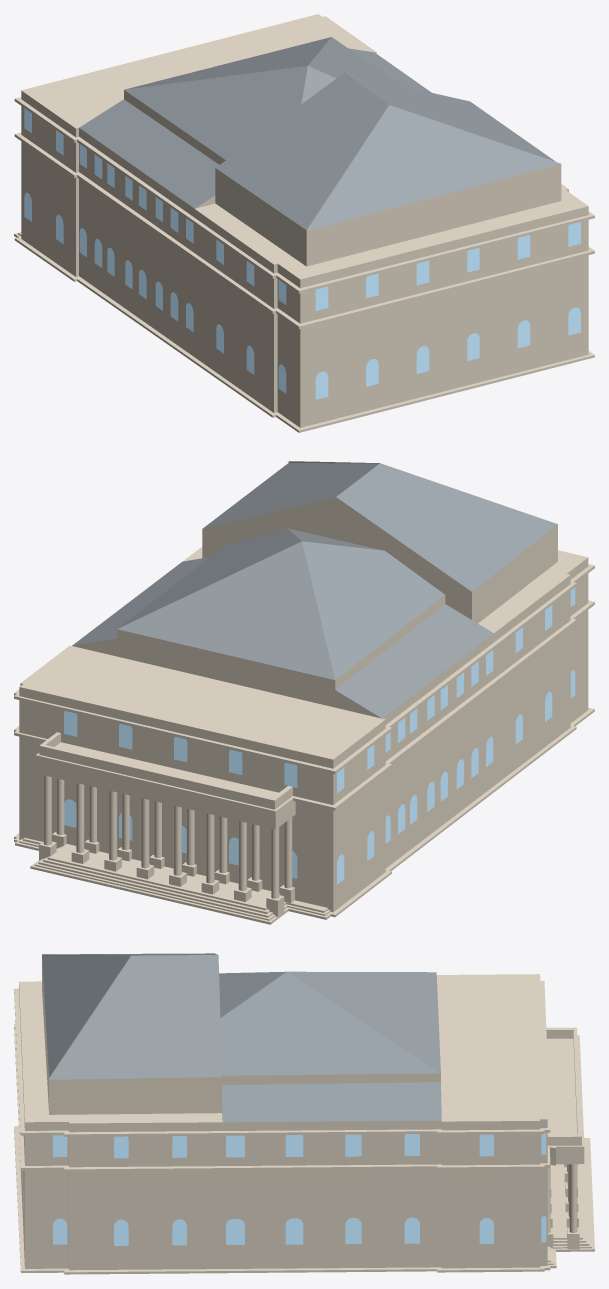
The picture shows the model from 3 angles, top to bottom: view 1: azimuth 30°, elevation 25°; view 2: azimuth 150°, elevation 25°; view 3: azimuth 270°, elevation 25°; orthographic projection. The views are drawn at different scales.
Parts seen in each view (by area): view 1: stone, roof, window; view 2: stone, roof, window; view 3: stone, roof, window.
Boxes of the visible parts, x1,y1,x2,y2 form: stone: [14, 14, 594, 432]; roof: [79, 37, 560, 230]; window: [24, 108, 580, 399]; stone: [14, 461, 594, 924]; roof: [72, 463, 557, 718]; window: [64, 587, 575, 884]; stone: [14, 954, 594, 1274]; roof: [42, 953, 441, 1122]; window: [22, 1132, 546, 1245].
Size of the model in its own units: 37.58 by 28 by 60.11.
